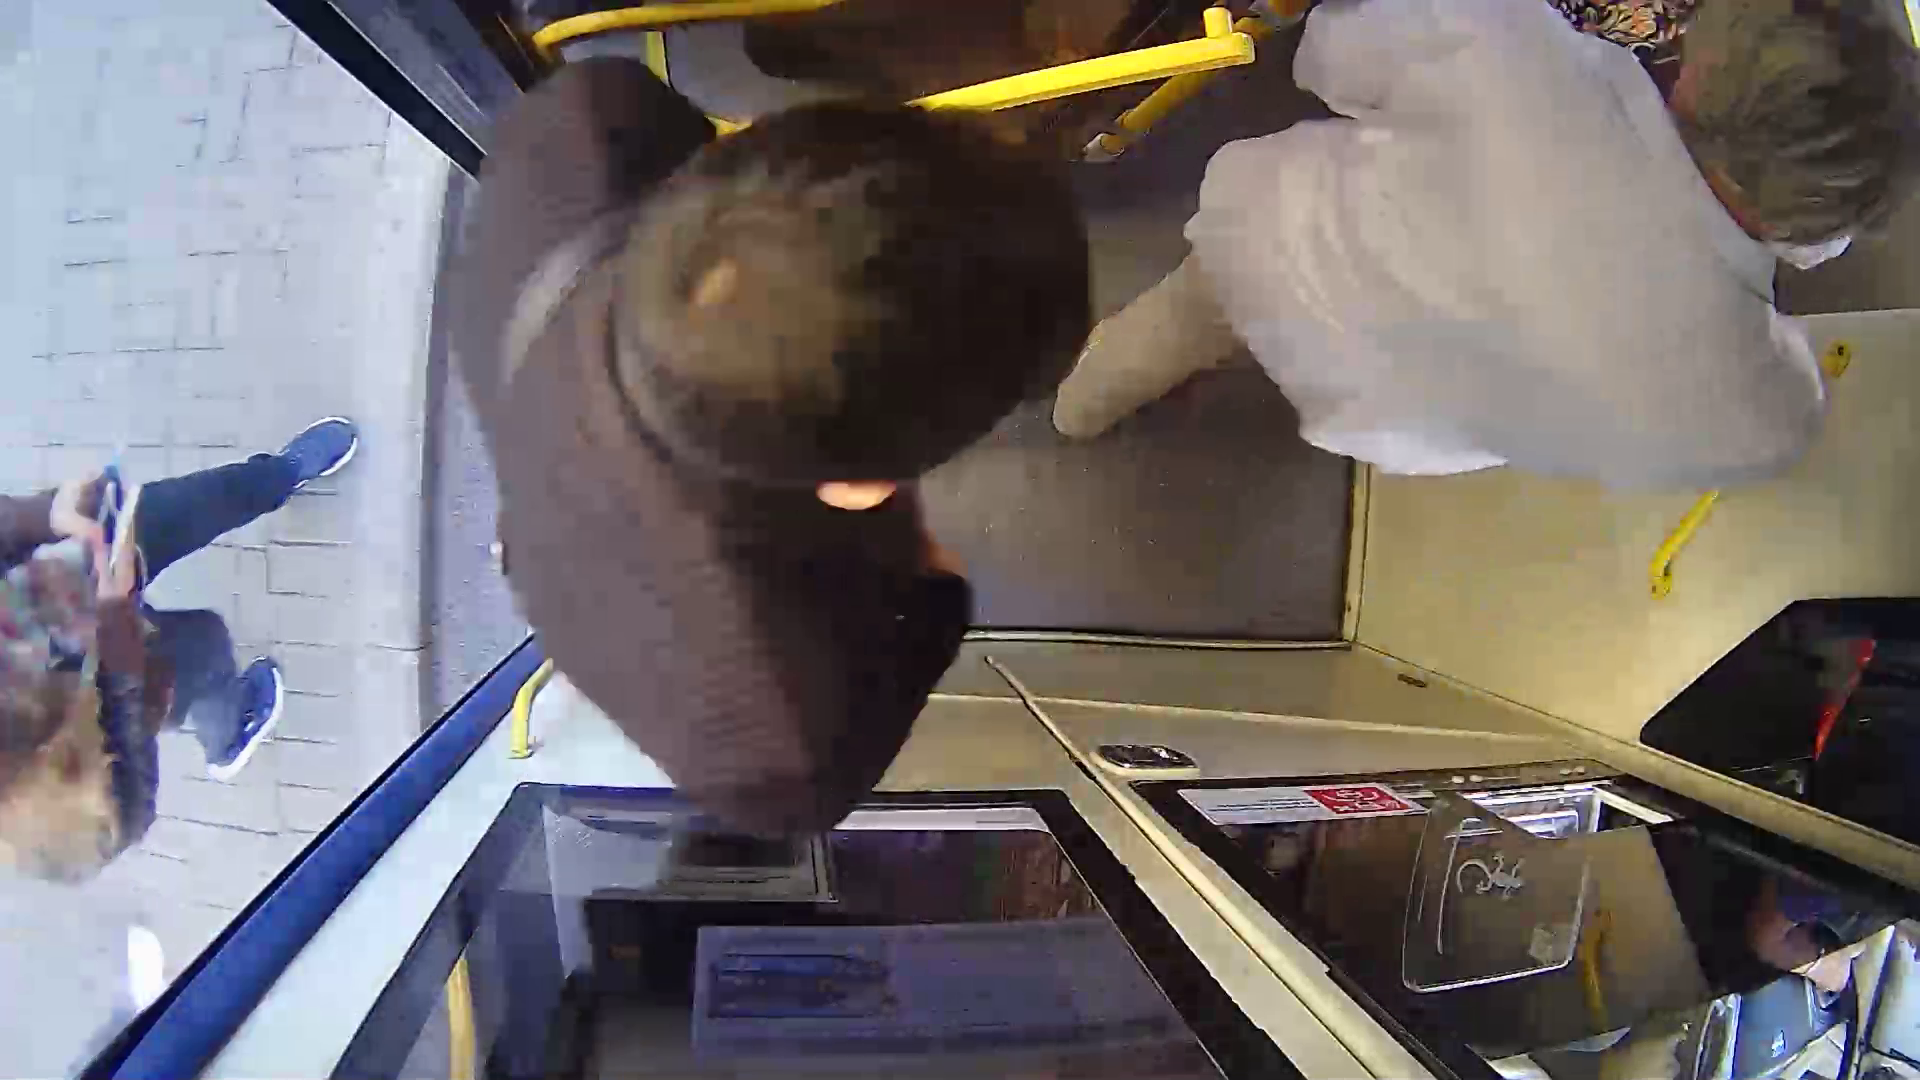person: (430, 42, 1164, 815), (1139, 6, 1898, 646)
